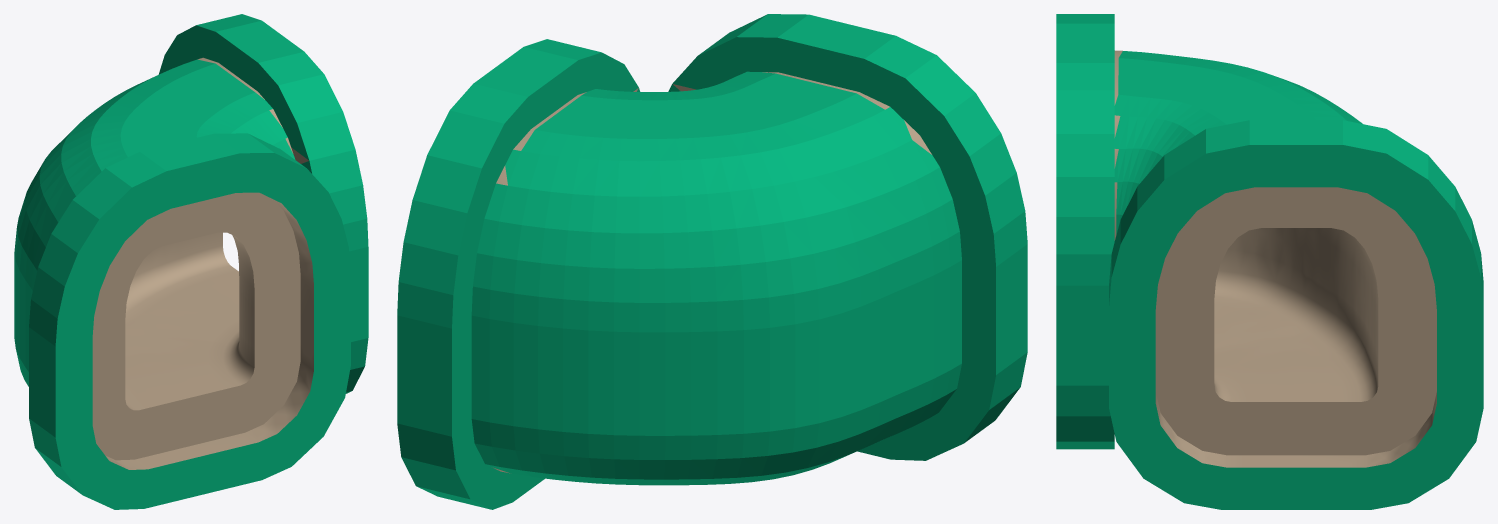
File: TT_C_Turn90.fbx
3 views of the same model, side by side, from view 1: azimuth 30°, elevation 25°; view 2: azimuth 150°, elevation 25°; view 3: azimuth 270°, elevation 25° (orthographic). The views are drawn at different scales.
Visible parts, largest first — view 1: TT_C_Turn90_LOD0; view 2: TT_C_Turn90_LOD0; view 3: TT_C_Turn90_LOD0.
Boxes of the visible parts, left/top/right/bottom form: TT_C_Turn90_LOD0: left=14, top=14, right=368, bottom=509; TT_C_Turn90_LOD0: left=397, top=14, right=1027, bottom=509; TT_C_Turn90_LOD0: left=1056, top=14, right=1483, bottom=509.
Size of the model in its own units: 365 by 344 by 365.
